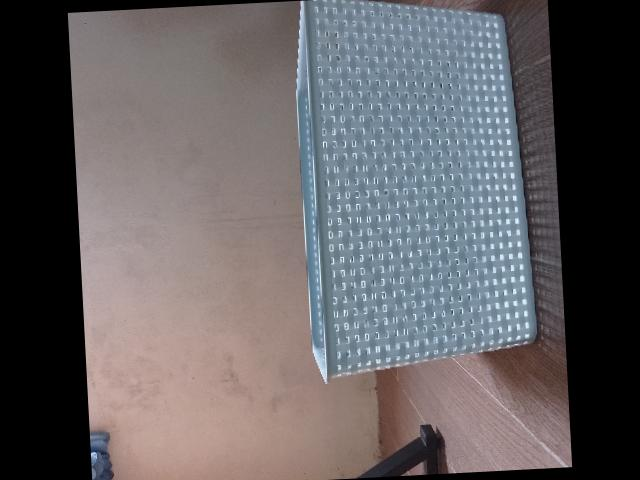cart: (296, 0, 539, 382)
